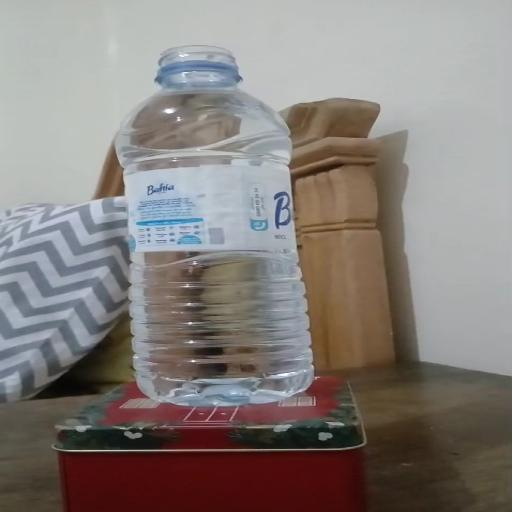bouteille non conformite: (93, 28, 281, 98)
